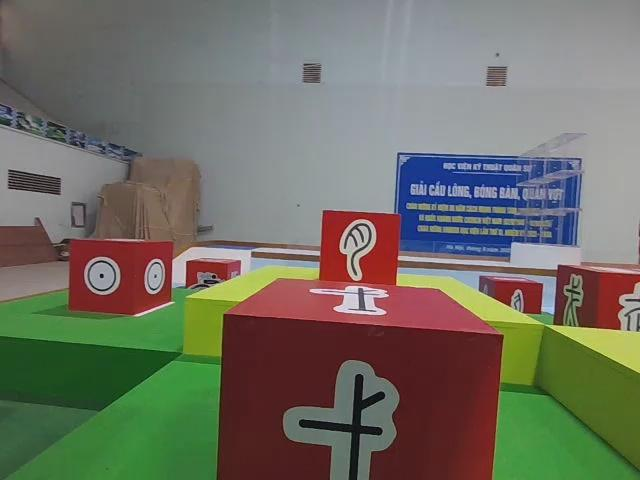R1: (183, 257, 240, 303)
R2 Fake: (321, 211, 399, 295), (555, 265, 640, 340)
R2 Real: (223, 278, 501, 480), (68, 242, 172, 317)
